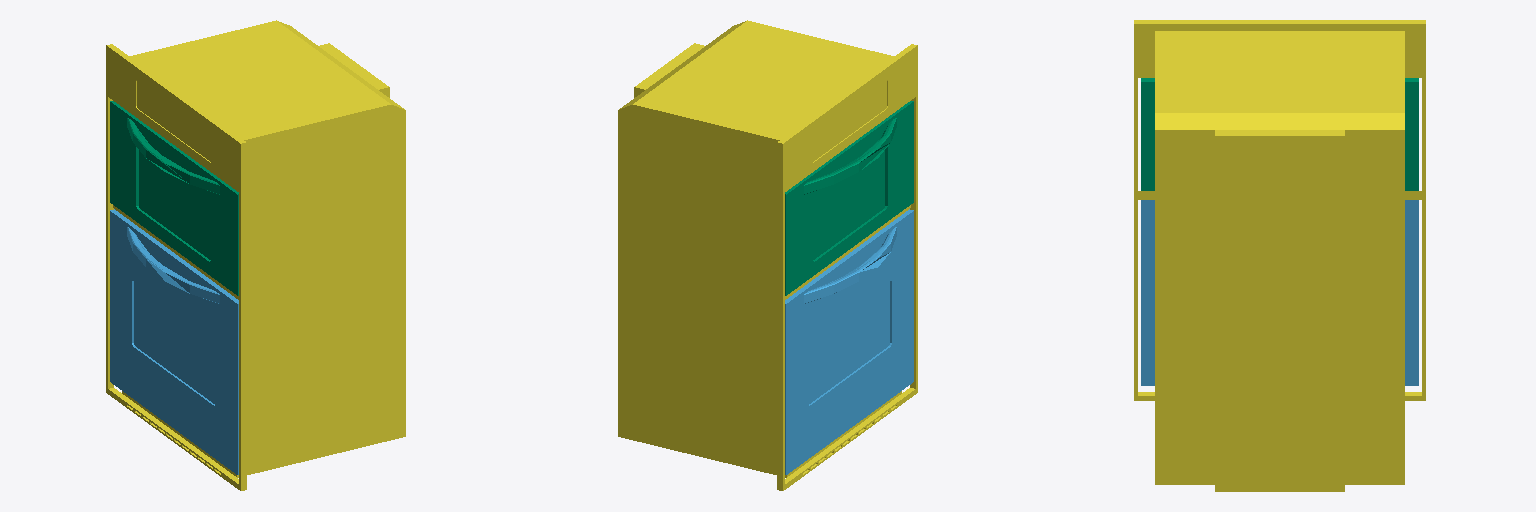
The robot description file, URDF, robot "partnet_5a98c841d578715e4a44340bf227e40":
<?xml version="1.0" ?>
<robot name="partnet_5a98c841d578715e4a44340bf227e40">
	<link name="base"/>
	<link name="link_0">
		<visual name="door_frame-10">
			<origin xyz="0.5527999997138979 0.7155698740791332 -0.37937702210941693"/>
			<geometry>
				<mesh filename="textured_objs/original-8.obj"/>
			</geometry>
		</visual>
		<visual name="glass-11">
			<origin xyz="0.5527999997138979 0.7155698740791332 -0.37937702210941693"/>
			<geometry>
				<mesh filename="textured_objs/original-1.obj"/>
			</geometry>
		</visual>
		<visual name="handle-12">
			<origin xyz="0.5527999997138979 0.7155698740791332 -0.37937702210941693"/>
			<geometry>
				<mesh filename="textured_objs/original-9.obj"/>
			</geometry>
		</visual>
		<collision>
			<origin xyz="0.5527999997138979 0.7155698740791332 -0.37937702210941693"/>
			<geometry>
				<mesh filename="textured_objs/original-8.obj"/>
			</geometry>
		</collision>
		<collision>
			<origin xyz="0.5527999997138979 0.7155698740791332 -0.37937702210941693"/>
			<geometry>
				<mesh filename="textured_objs/original-1.obj"/>
			</geometry>
		</collision>
		<collision>
			<origin xyz="0.5527999997138979 0.7155698740791332 -0.37937702210941693"/>
			<geometry>
				<mesh filename="textured_objs/original-9.obj"/>
			</geometry>
		</collision>
	</link>
	<joint name="joint_0" type="revolute">
		<origin xyz="-0.5527999997138979 -0.7155698740791332 0.37937702210941693"/>
		<axis xyz="1 0 0"/>
		<child link="link_0"/>
		<parent link="link_2"/>
		<limit lower="0.0" upper="1.5707963267948966"/>
	</joint>
	<link name="link_1">
		<visual name="door_frame-7">
			<origin xyz="0.5527999997138977 -0.09165690850597277 -0.3916169157850645"/>
			<geometry>
				<mesh filename="textured_objs/original-3.obj"/>
			</geometry>
		</visual>
		<visual name="glass-8">
			<origin xyz="0.5527999997138977 -0.09165690850597277 -0.3916169157850645"/>
			<geometry>
				<mesh filename="textured_objs/original-6.obj"/>
			</geometry>
		</visual>
		<visual name="handle-9">
			<origin xyz="0.5527999997138977 -0.09165690850597277 -0.3916169157850645"/>
			<geometry>
				<mesh filename="textured_objs/original-4.obj"/>
			</geometry>
		</visual>
		<collision>
			<origin xyz="0.5527999997138977 -0.09165690850597277 -0.3916169157850645"/>
			<geometry>
				<mesh filename="textured_objs/original-3.obj"/>
			</geometry>
		</collision>
		<collision>
			<origin xyz="0.5527999997138977 -0.09165690850597277 -0.3916169157850645"/>
			<geometry>
				<mesh filename="textured_objs/original-6.obj"/>
			</geometry>
		</collision>
		<collision>
			<origin xyz="0.5527999997138977 -0.09165690850597277 -0.3916169157850645"/>
			<geometry>
				<mesh filename="textured_objs/original-4.obj"/>
			</geometry>
		</collision>
	</link>
	<joint name="joint_1" type="revolute">
		<origin xyz="-0.5527999997138977 0.09165690850597277 0.3916169157850645"/>
		<axis xyz="1 0 0"/>
		<child link="link_1"/>
		<parent link="link_2"/>
		<limit lower="0.0" upper="1.5707963267948966"/>
	</joint>
	<link name="link_2">
		<visual name="frame-2">
			<origin xyz="0 0 0"/>
			<geometry>
				<mesh filename="textured_objs/original-7.obj"/>
			</geometry>
		</visual>
		<visual name="frame-2">
			<origin xyz="0 0 0"/>
			<geometry>
				<mesh filename="textured_objs/original-2.obj"/>
			</geometry>
		</visual>
		<visual name="display_panel-6">
			<origin xyz="0 0 0"/>
			<geometry>
				<mesh filename="textured_objs/original-5.obj"/>
			</geometry>
		</visual>
		<collision>
			<origin xyz="0 0 0"/>
			<geometry>
				<mesh filename="textured_objs/original-7.obj"/>
			</geometry>
		</collision>
		<collision>
			<origin xyz="0 0 0"/>
			<geometry>
				<mesh filename="textured_objs/original-2.obj"/>
			</geometry>
		</collision>
		<collision>
			<origin xyz="0 0 0"/>
			<geometry>
				<mesh filename="textured_objs/original-5.obj"/>
			</geometry>
		</collision>
	</link>
	<joint name="joint_2" type="fixed">
		<origin rpy="1.570796326794897 0 -1.570796326794897" xyz="0 0 0"/>
		<child link="link_2"/>
		<parent link="base"/>
	</joint>
</robot>

--- What the picture shows (computed from the rendered views, not written in the file) ---
The picture shows the robot from 3 angles, left to right: view 1: azimuth 30°, elevation 25°; view 2: azimuth 150°, elevation 25°; view 3: azimuth 270°, elevation 25°; orthographic projection.
Model partnet_5a98c841d578715e4a44340bf227e40 with 4 links and 3 joints (2 revolute, 1 fixed), rooted at base, posed all joints at 0.
Visible links, largest first — view 1: link_2, link_0, link_1; view 2: link_2, link_0, link_1; view 3: link_2, link_0, link_1.
Boxes of the visible links, x1,y1,x2,y2 form: link_2: [106, 20, 405, 490]; link_0: [110, 209, 238, 474]; link_1: [110, 101, 238, 295]; link_2: [618, 20, 917, 490]; link_0: [785, 209, 913, 474]; link_1: [785, 101, 913, 295]; link_2: [1134, 20, 1425, 491]; link_0: [1141, 200, 1418, 385]; link_1: [1141, 78, 1418, 190].
Bounding box of the posed robot: 0.9566 × 1.09 × 1.56 m (x, y, z).
9 mesh visuals loaded from 9 distinct referenced files (9 OBJ).
